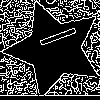I: (29, 24, 78, 53)
